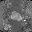people: (10, 11, 22, 22)
